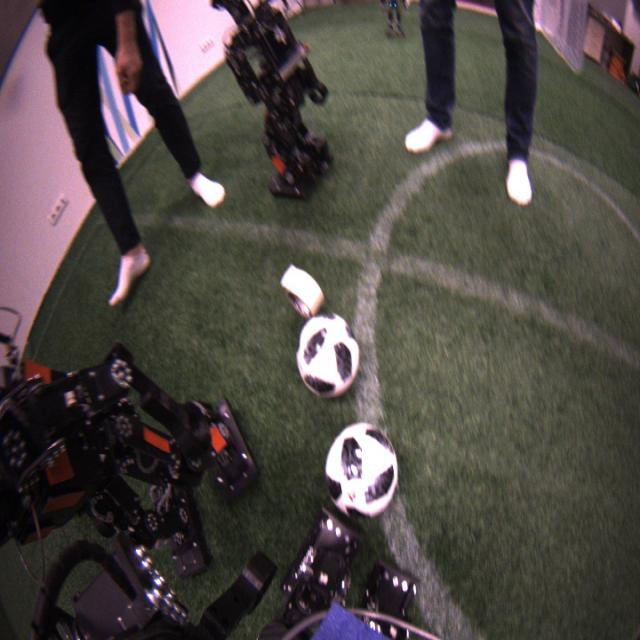ball: (326, 424, 398, 520), (296, 312, 359, 397)
